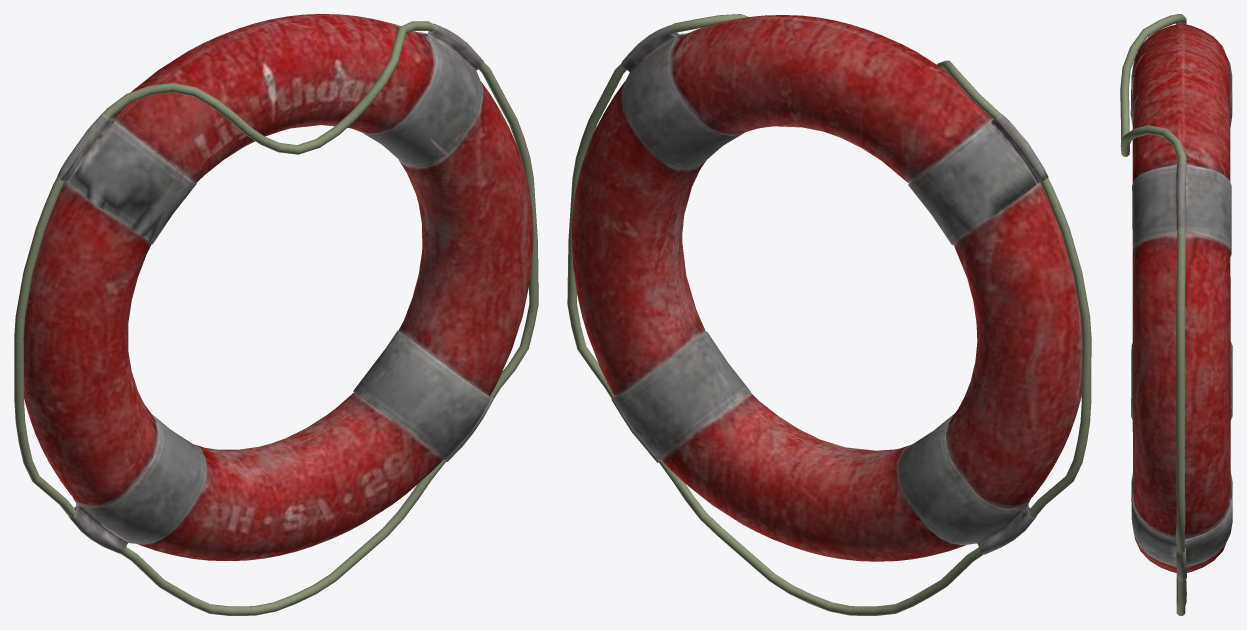
The model's file is lifebuoy.3f191148.glb.
The picture shows the model from 3 angles, left to right: view 1: azimuth 30°, elevation 25°; view 2: azimuth 150°, elevation 25°; view 3: azimuth 270°, elevation 25°; orthographic projection. The views are drawn at different scales.
Parts seen in each view (by area): view 1: model; view 2: model; view 3: model.
Boxes of the visible parts, x1,y1,x2,y2 form: model: [14, 14, 538, 615]; model: [567, 14, 1091, 615]; model: [1120, 14, 1232, 615].
Size of the model in its own units: 0.783 by 0.8412 by 0.1548.
Materials: 1 (1 with a texture image).
